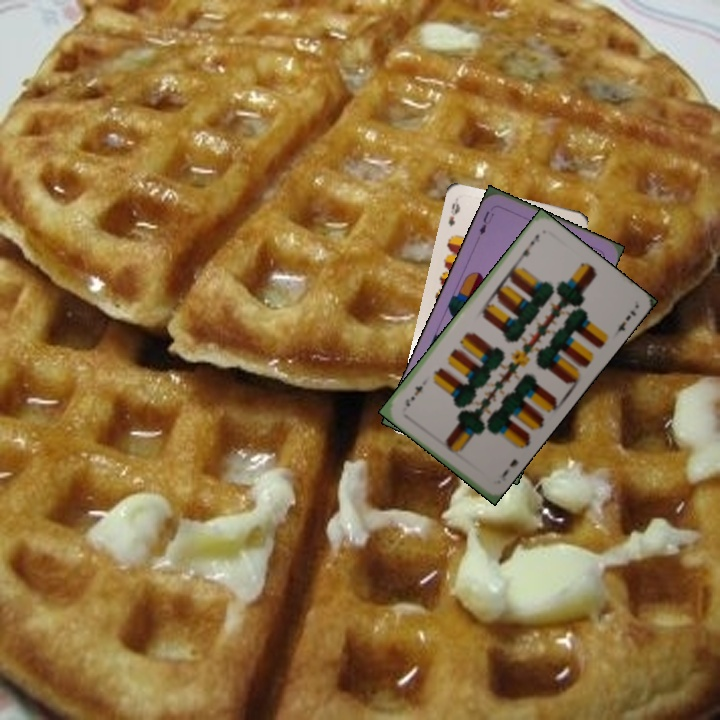E7: (514, 230, 542, 263), (497, 455, 521, 483)
E9: (444, 196, 463, 229)
EU: (475, 207, 497, 238)
